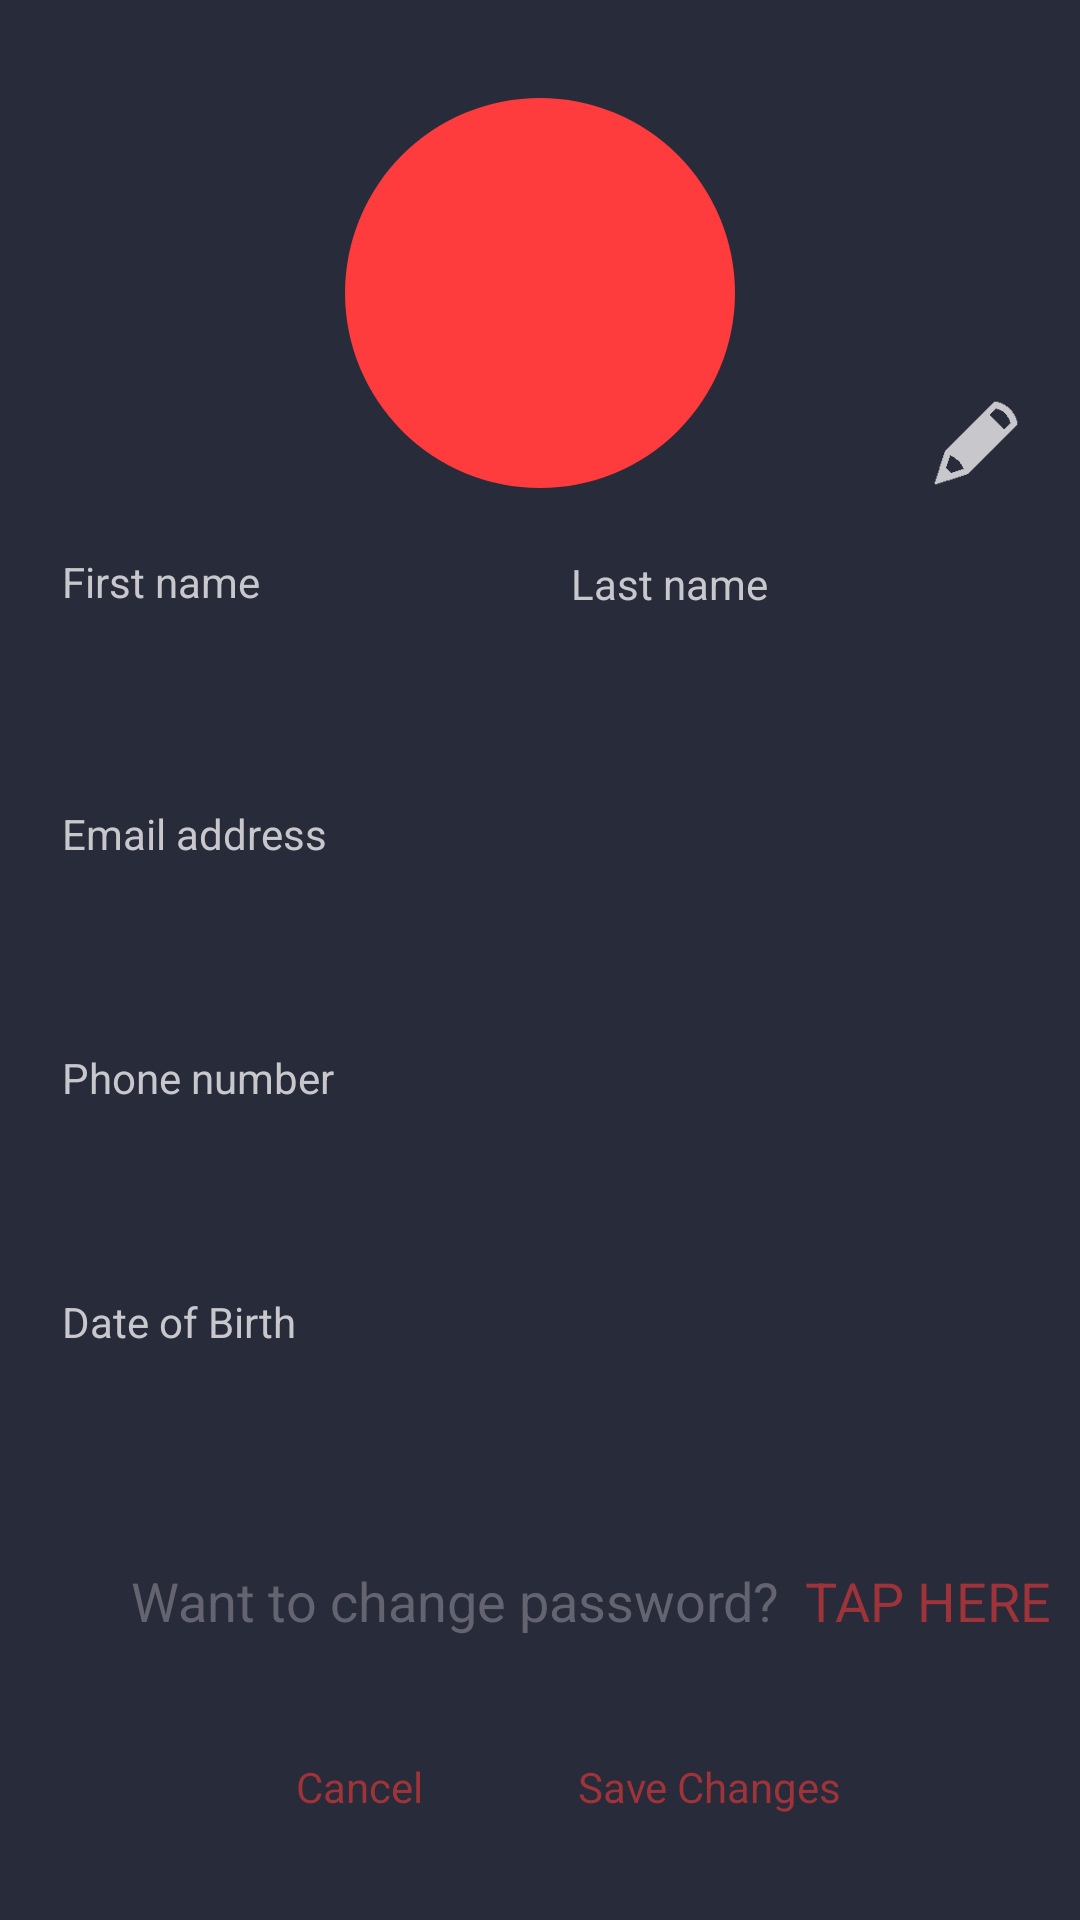

Icon bounding boxes for this 1080px×1920px phone screenshot, format (x1, y1, x2, y2):
editpen: (934, 401, 1018, 485)
